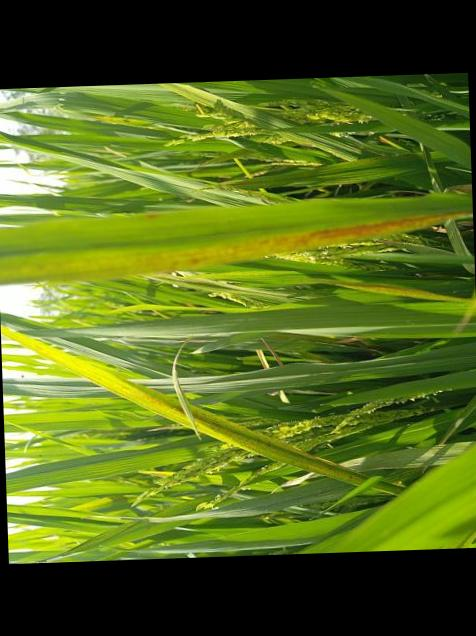Leaf Streak: (41, 347, 374, 486), (0, 214, 451, 285)
